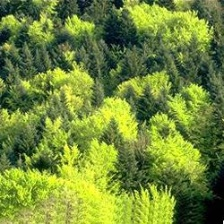neutral: (3, 1, 221, 224)
